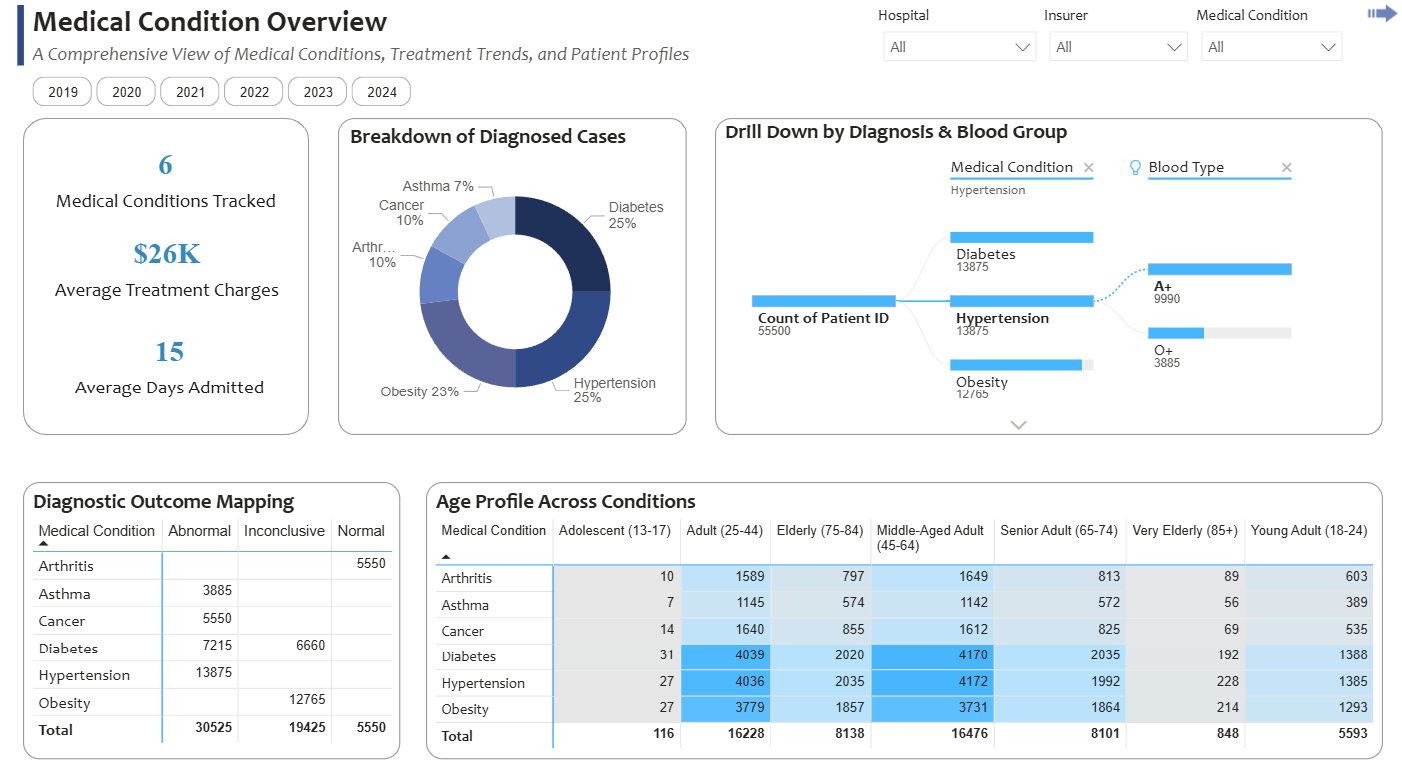

What the dashboard file says about the page in this screenshot:
{"tool":"powerbi","page":{"name":"Medical Condition","canvas":[1280,720],"ordinal":3},"visuals":[{"type":"textbox","title":"Medical Condition Overview","box":[27,0,630,67],"z":0},{"type":"shape","box":[24,109,260,290],"z":0,"group":"g2"},{"type":"card","fields":{"Values":["Count(Healthcare.Medical Condition)"]},"box":[37,118,230,89],"z":0,"group":"g1"},{"type":"decompositionTreeVisual","title":"Drill Down by Diagnosis & Blood Group","fields":{"ExplainBy":["Healthcare.Medical Condition","Healthcare.Blood Type"],"Analyze":["Count(Healthcare.Patient ID)"]},"box":[653,109,607,290],"z":1000},{"type":"group","id":"g1","title":"Group 1","box":[37,118,237,258],"z":1000,"group":"g2"},{"type":"card","fields":{"Values":["Avg(Healthcare.Billing Amount)"]},"box":[37,198,232,90],"z":1000,"group":"g1"},{"type":"card","fields":{"Values":["Avg(Healthcare.Stay Days)"]},"box":[37,288,237,88],"z":2000,"group":"g1"},{"type":"pivotTable","title":"Age Profile Across Conditions","fields":{"Rows":["Healthcare.Medical Condition"],"Columns":["Healthcare.Age Group"],"Values":["Healthcare.Total Patients"]},"box":[390,442,870,253],"z":2000},{"type":"donutChart","title":"Breakdown of Diagnosed Cases","fields":{"Category":["Healthcare.Medical Condition"],"Y":["Healthcare.Total Patients"]},"box":[310,109,317,290],"z":3000},{"type":"pivotTable","title":"Diagnostic Outcome Mapping","fields":{"Rows":["Healthcare.Medical Condition"],"Columns":["Healthcare.Test Results"],"Values":["Healthcare.Total Patients"]},"box":[24,442,343,253],"z":4000},{"type":"group","id":"g2","title":"Group 2","box":[24,109,260,290],"z":5000},{"type":"shape","box":[15,6,12,55],"z":6000},{"type":"advancedSlicerVisual","title":"Filter by year","fields":{"Values":["Healthcare.Start Year.Variation.Date Hierarchy.Year"]},"box":[27,66,359,37],"z":7000},{"type":"image","box":[1240,0,40,28],"z":8000},{"type":"group","id":"g3","title":"Group 4","box":[800,6,429,57],"z":9000},{"type":"slicer","title":"Hospital","fields":{"Values":["Healthcare.Hospital"]},"box":[800,6,151,57],"z":11000,"group":"g3"},{"type":"slicer","title":"Insurer","fields":{"Values":["Healthcare.Insurance Provider"]},"box":[951,6,138,57],"z":12000,"group":"g3"},{"type":"slicer","title":"Medical Condition","fields":{"Values":["Healthcare.Medical Condition"]},"box":[1089,6,140,57],"z":13000,"group":"g3"}]}

Visuals, with their boxes in screenshot pixels (x1, y1, x2, y2), scaled from the page's 1280x720 canvas onto the 1402x778 screenshot:
"Medical Condition Overview" textbox: (30,0,720,72)
shape: (26,118,311,431)
card - Count(Healthcare.Medical Condition): (41,128,292,224)
"Drill Down by Diagnosis & Blood Group" decompositionTreeVisual: (715,118,1380,431)
"Group 1" group: (41,128,300,406)
card - Avg(Healthcare.Billing Amount): (41,214,295,311)
card - Avg(Healthcare.Stay Days): (41,311,300,406)
"Age Profile Across Conditions" pivotTable: (427,478,1380,751)
"Breakdown of Diagnosed Cases" donutChart: (340,118,687,431)
"Diagnostic Outcome Mapping" pivotTable: (26,478,402,751)
"Group 2" group: (26,118,311,431)
shape: (16,6,30,66)
"Filter by year" advancedSlicerVisual: (30,71,423,111)
image: (1358,0,1401,30)
"Group 4" group: (876,6,1346,68)
"Hospital" slicer: (876,6,1042,68)
"Insurer" slicer: (1042,6,1193,68)
"Medical Condition" slicer: (1193,6,1346,68)
